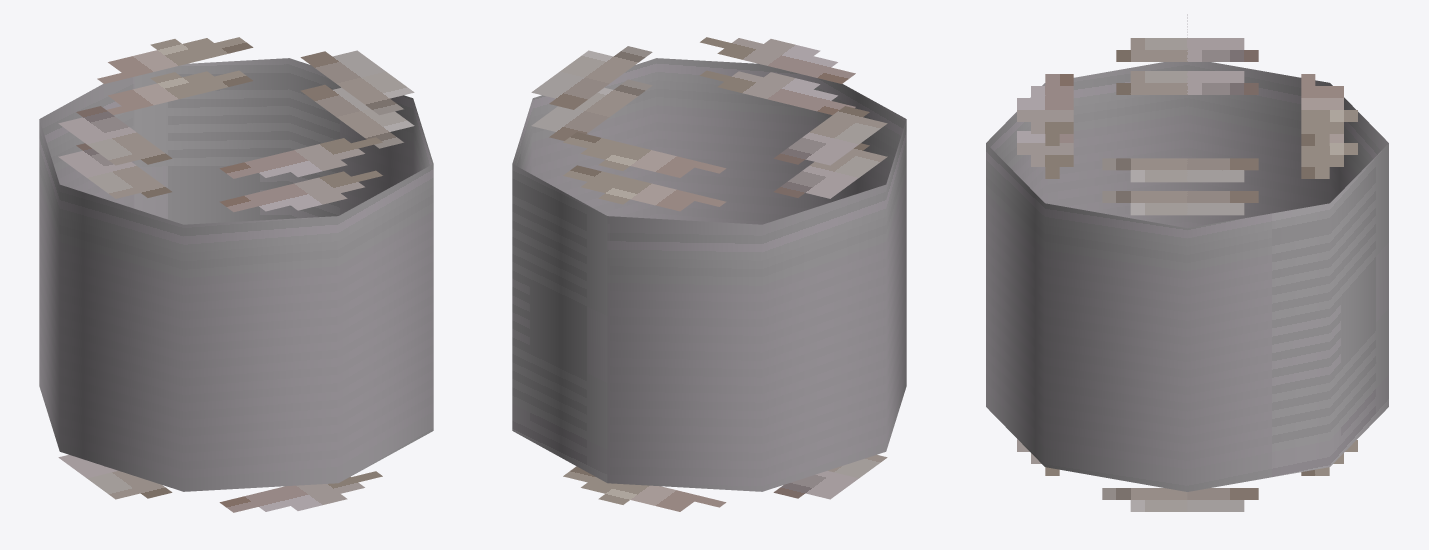
File: eqp_wire_spool_s01_l2.fbx
3 renders of one model, left to right at view 1: azimuth 30°, elevation 25°; view 2: azimuth 150°, elevation 25°; view 3: azimuth 270°, elevation 25°, orthographic.
Parts seen in each view (by area): view 1: mesh_node; view 2: mesh_node; view 3: mesh_node.
Boxes of the visible parts, bbox=[...] form: mesh_node: bbox=[39, 37, 433, 512]; mesh_node: bbox=[512, 37, 906, 511]; mesh_node: bbox=[986, 14, 1388, 511].
Bounding box in the file's own units: 0.25 × 0.2 × 0.25.
Materials: 1 (1 with a texture image).
